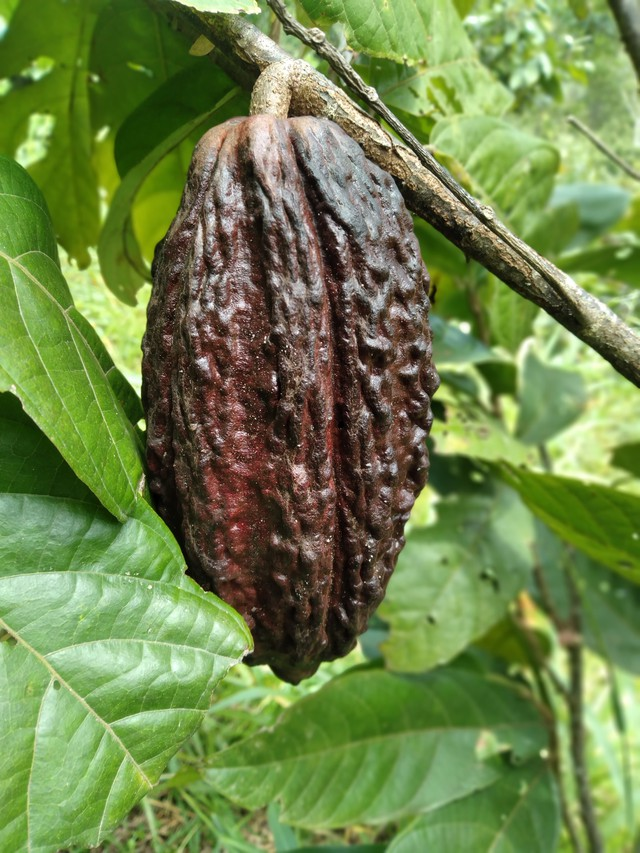phytophthora palmivora: (131, 107, 446, 693)
